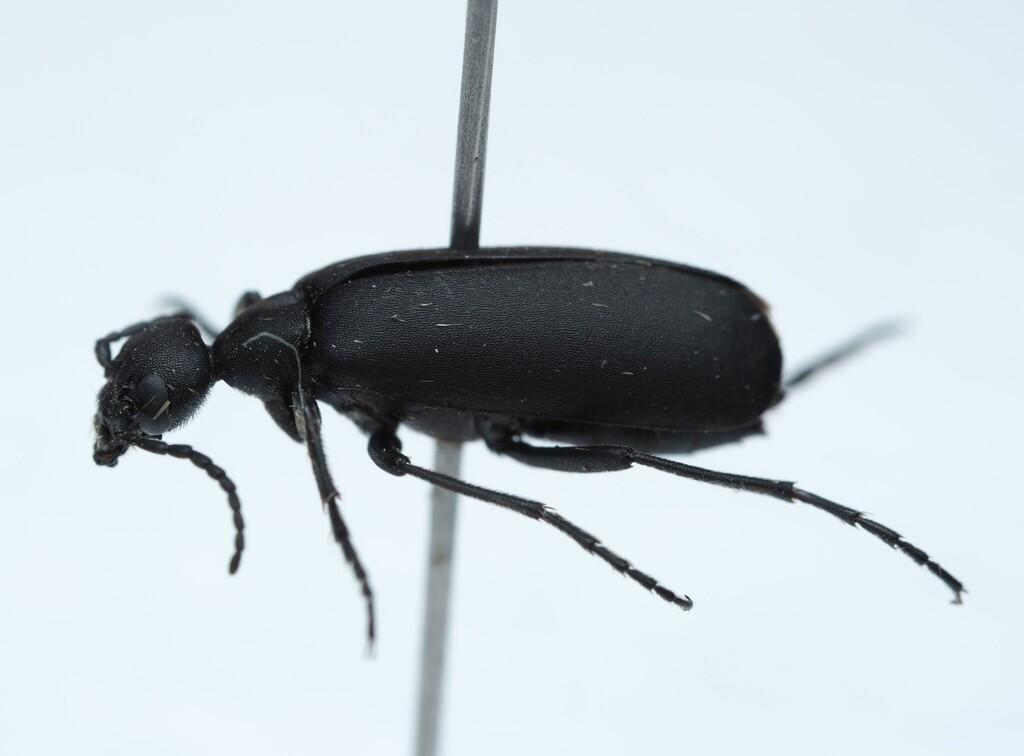blister_beetle: (13, 158, 1005, 701)
